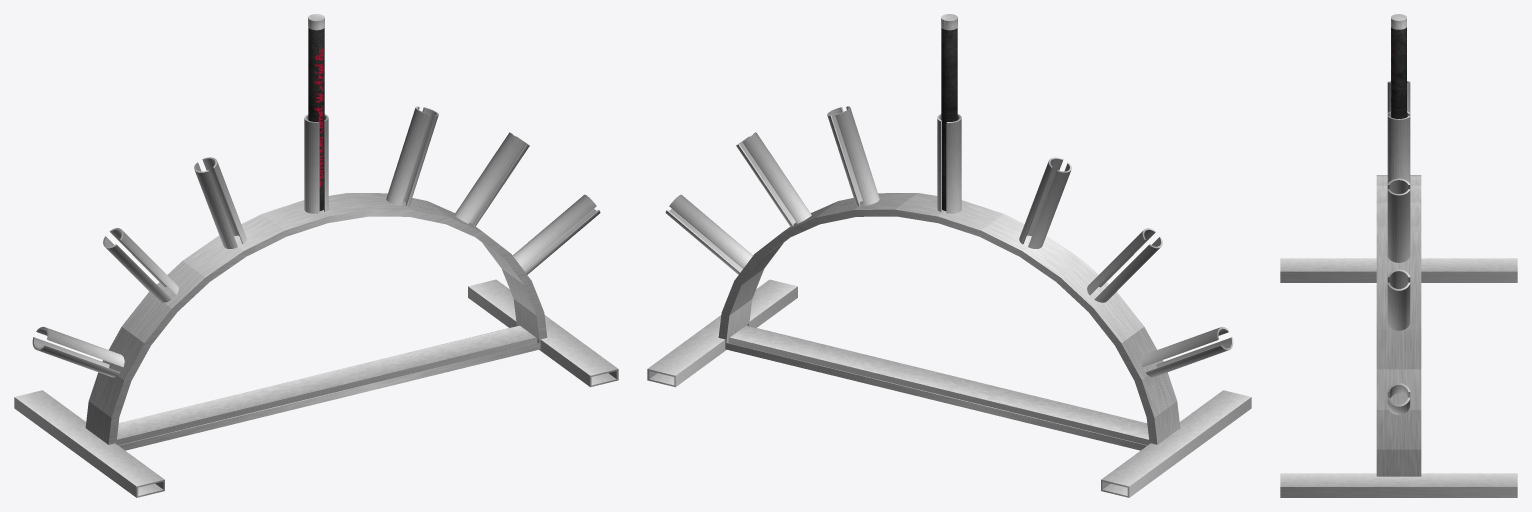
The model's file is 40mmRack7s.fbx.
3 views of the same model, side by side, from view 1: azimuth 30°, elevation 25°; view 2: azimuth 150°, elevation 25°; view 3: azimuth 270°, elevation 25° (orthographic). The views are drawn at different scales.
Visible parts, largest first — view 1: Arc, Arc Bottom, Support Leg.001, Support Leg, 40mm Candle Holder.001, 40mm Candle Holder.002, 40mm Candle Holder.003, 40mm Candle Holder.006, 40mm Candle Holder.004, 40mmCandle, 40mm Candle Holder, 40mm Candle Holder.005; view 2: Arc, Arc Bottom, Support Leg.001, Support Leg, 40mm Candle Holder.001, 40mm Candle Holder.002, 40mm Candle Holder.003, 40mm Candle Holder.006, 40mm Candle Holder.004, 40mmCandle, 40mm Candle Holder, 40mm Candle Holder.005; view 3: Arc, Support Leg, Support Leg.001, 40mm Candle Holder.001, 40mm Candle Holder, 40mmCandle, 40mm Candle Holder.002, 40mm Candle Holder.003.
Part boxes in pixels (x1=…): Arc: x1=85, y1=193, x2=547, y2=450; Arc Bottom: x1=116, y1=325, x2=537, y2=445; Support Leg.001: x1=14, y1=390, x2=164, y2=497; Support Leg: x1=468, y1=279, x2=618, y2=387; 40mm Candle Holder.001: x1=386, y1=106, x2=438, y2=205; 40mm Candle Holder.002: x1=454, y1=132, x2=529, y2=226; 40mm Candle Holder.003: x1=513, y1=194, x2=600, y2=274; 40mm Candle Holder.006: x1=194, y1=157, x2=246, y2=248; 40mm Candle Holder.004: x1=32, y1=326, x2=124, y2=377; 40mmCandle: x1=308, y1=28, x2=324, y2=210; 40mm Candle Holder: x1=304, y1=114, x2=328, y2=213; 40mm Candle Holder.005: x1=103, y1=228, x2=178, y2=302; Arc: x1=718, y1=193, x2=1180, y2=450; Arc Bottom: x1=728, y1=325, x2=1149, y2=445; Support Leg.001: x1=1101, y1=390, x2=1251, y2=497; Support Leg: x1=647, y1=279, x2=797, y2=387; 40mm Candle Holder.001: x1=827, y1=106, x2=879, y2=205; 40mm Candle Holder.002: x1=736, y1=132, x2=811, y2=226; 40mm Candle Holder.003: x1=665, y1=194, x2=752, y2=274; 40mm Candle Holder.006: x1=1019, y1=157, x2=1071, y2=248; 40mm Candle Holder.004: x1=1141, y1=326, x2=1233, y2=377; 40mmCandle: x1=941, y1=28, x2=957, y2=210; 40mm Candle Holder: x1=937, y1=114, x2=961, y2=213; 40mm Candle Holder.005: x1=1087, y1=228, x2=1162, y2=302; Arc: x1=1376, y1=175, x2=1421, y2=476; Support Leg: x1=1280, y1=473, x2=1517, y2=497; Support Leg.001: x1=1280, y1=258, x2=1517, y2=282; 40mm Candle Holder.001: x1=1387, y1=178, x2=1410, y2=262; 40mm Candle Holder: x1=1387, y1=111, x2=1410, y2=183; 40mmCandle: x1=1391, y1=27, x2=1406, y2=118; 40mm Candle Holder.002: x1=1387, y1=269, x2=1410, y2=330; 40mm Candle Holder.003: x1=1387, y1=383, x2=1410, y2=414.
Bounding box in the file's own units: 319 × 204 × 120.
